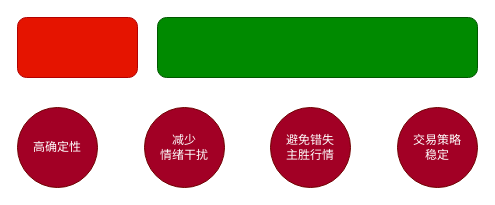
Image size: 495x205. Some labels were removed from this diagram. The box of each missing label's shape, as (x1, y1, x2, y2) in pixels:
尾盘交易: (16, 16, 138, 78)
早盘看方向，午盘等确认，尾盘定买卖: (156, 16, 478, 78)
